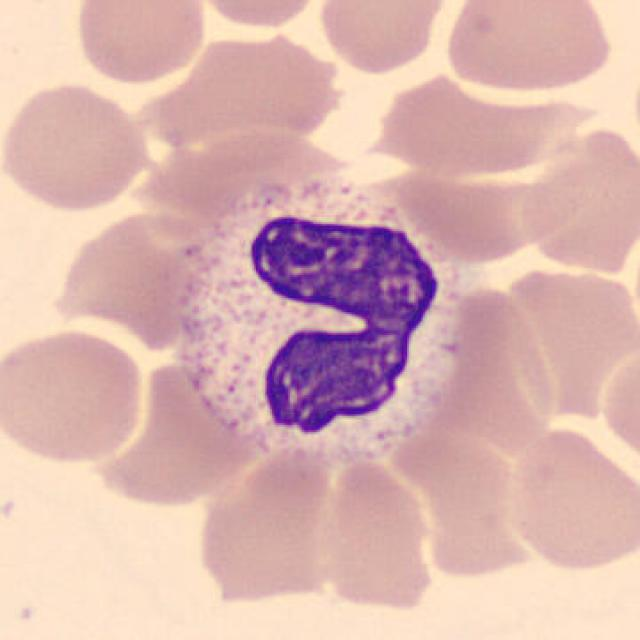Neutrophil: (179, 182, 474, 461)
RBC: (79, 353, 268, 511), (124, 36, 355, 160), (190, 436, 343, 608), (48, 204, 219, 351), (134, 122, 356, 220), (501, 262, 636, 422), (370, 69, 581, 170), (0, 324, 149, 467), (443, 284, 563, 458), (0, 78, 153, 214), (401, 422, 534, 578), (503, 423, 637, 577), (315, 453, 441, 614), (516, 121, 636, 276), (441, 0, 619, 97), (217, 573, 446, 638), (71, 0, 210, 88), (313, 0, 453, 76), (596, 344, 638, 471), (190, 0, 329, 32)
